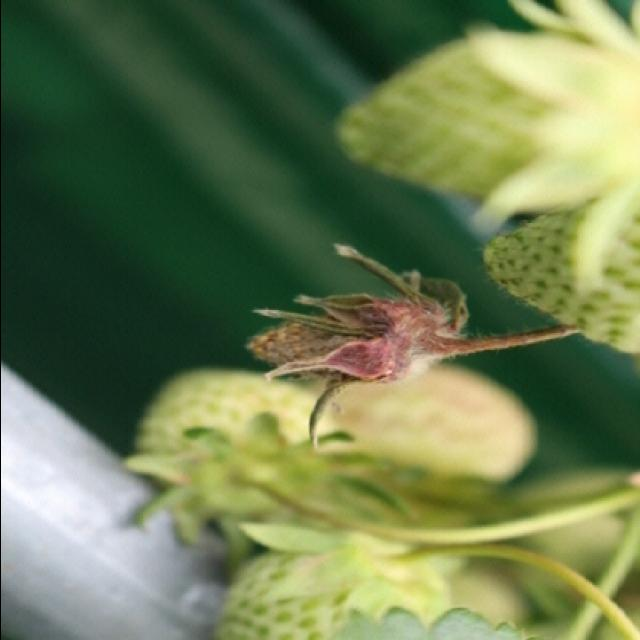Gray Mold: (246, 242, 491, 449)
